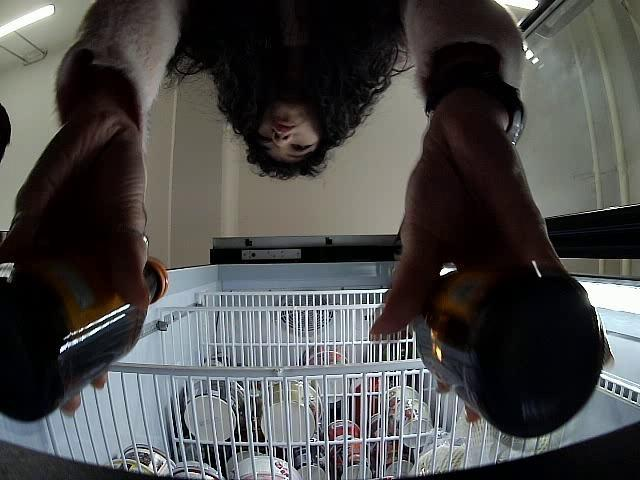17_vita500: (416, 266, 602, 438), (0, 259, 167, 424)
